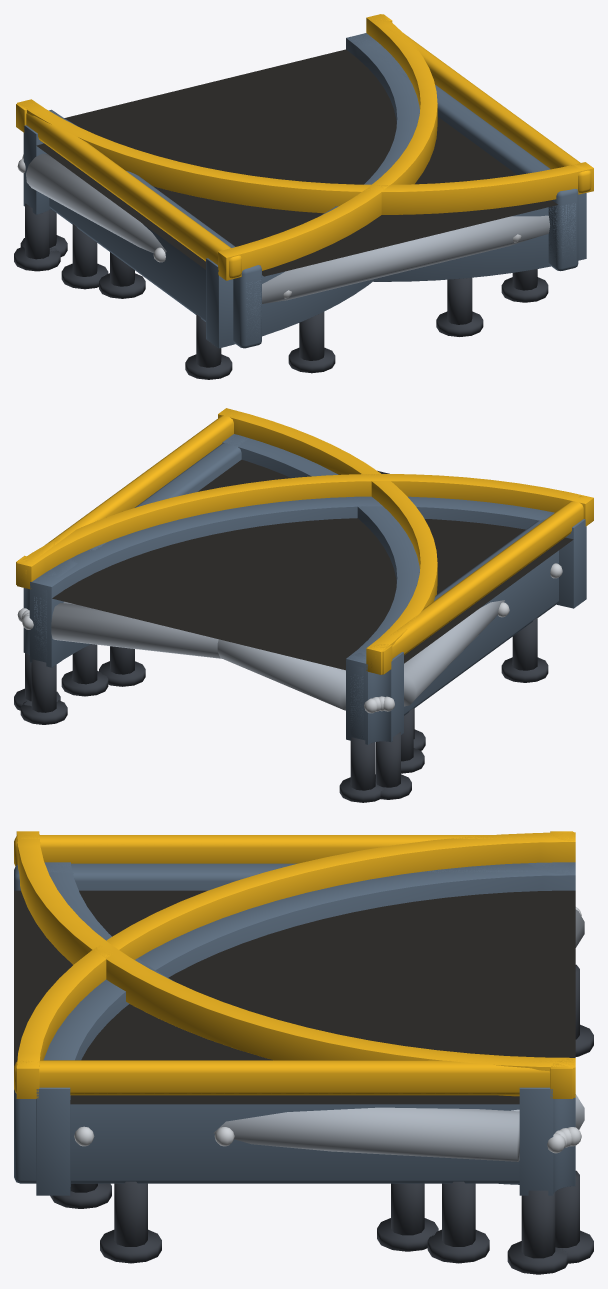
Rendered from belts.glb.
3 renders of one model, top to bottom at view 1: azimuth 30°, elevation 25°; view 2: azimuth 150°, elevation 25°; view 3: azimuth 270°, elevation 25°, orthographic. The views are drawn at different scales.
Parts seen in each view (by area): view 1: belt_frame_s, belt_frame_l, belt_band_l, belt_frame_r, belt_band_s, belt_band_r, belt_frame_slr; view 2: belt_frame_l, belt_frame_s, belt_band_l, belt_frame_r, belt_band_r, belt_band_s; view 3: belt_frame_s, belt_frame_r, belt_band_r, belt_band_l, belt_frame_l, belt_band_s.
Part boxes in pixels (bbox=[...]): belt_frame_s: bbox=[26, 19, 591, 379]; belt_frame_l: bbox=[14, 14, 437, 373]; belt_band_l: bbox=[36, 49, 396, 269]; belt_frame_r: bbox=[17, 14, 593, 336]; belt_band_s: bbox=[66, 50, 557, 276]; belt_band_r: bbox=[65, 49, 514, 184]; belt_frame_slr: bbox=[548, 203, 575, 267]; belt_frame_l: bbox=[17, 474, 593, 802]; belt_frame_s: bbox=[21, 411, 585, 773]; belt_band_l: bbox=[52, 519, 573, 669]; belt_frame_r: bbox=[14, 408, 437, 750]; belt_band_r: bbox=[52, 459, 396, 669]; belt_band_s: bbox=[60, 460, 519, 669]; belt_frame_s: bbox=[14, 835, 568, 1263]; belt_frame_r: bbox=[16, 832, 593, 1274]; belt_band_r: bbox=[70, 890, 575, 1104]; belt_band_l: bbox=[79, 890, 575, 1057]; belt_frame_l: bbox=[16, 831, 593, 1251]; belt_band_s: bbox=[14, 890, 575, 1065].
Bounding box in the file's own units: 1.06 × 0.4 × 1.03.
